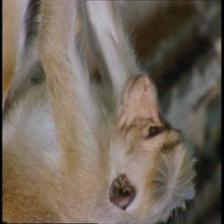monkey: (96, 70, 202, 223)
